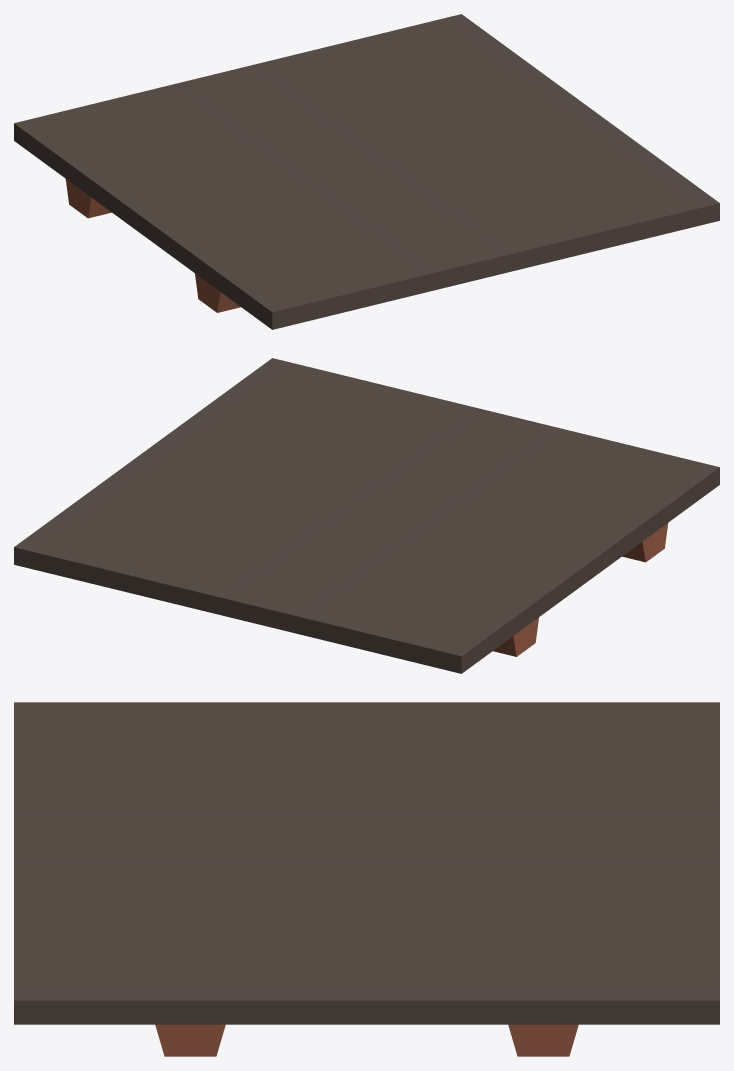
The model's file is ceiling_tile.glb.
3 views of the same model, one above another, from view 1: azimuth 30°, elevation 25°; view 2: azimuth 150°, elevation 25°; view 3: azimuth 270°, elevation 25° (orthographic). The views are drawn at different scales.
Parts seen in each view (by area): view 1: ceiling_tile; view 2: ceiling_tile; view 3: ceiling_tile.
Boxes of the visible parts, left/top/right/bottom form: ceiling_tile: left=14, top=14, right=719, bottom=329; ceiling_tile: left=14, top=358, right=719, bottom=673; ceiling_tile: left=14, top=702, right=719, bottom=1056.
Bounding box in the file's own units: 4 × 0.3501 × 4.
1 material, 1 textured.
